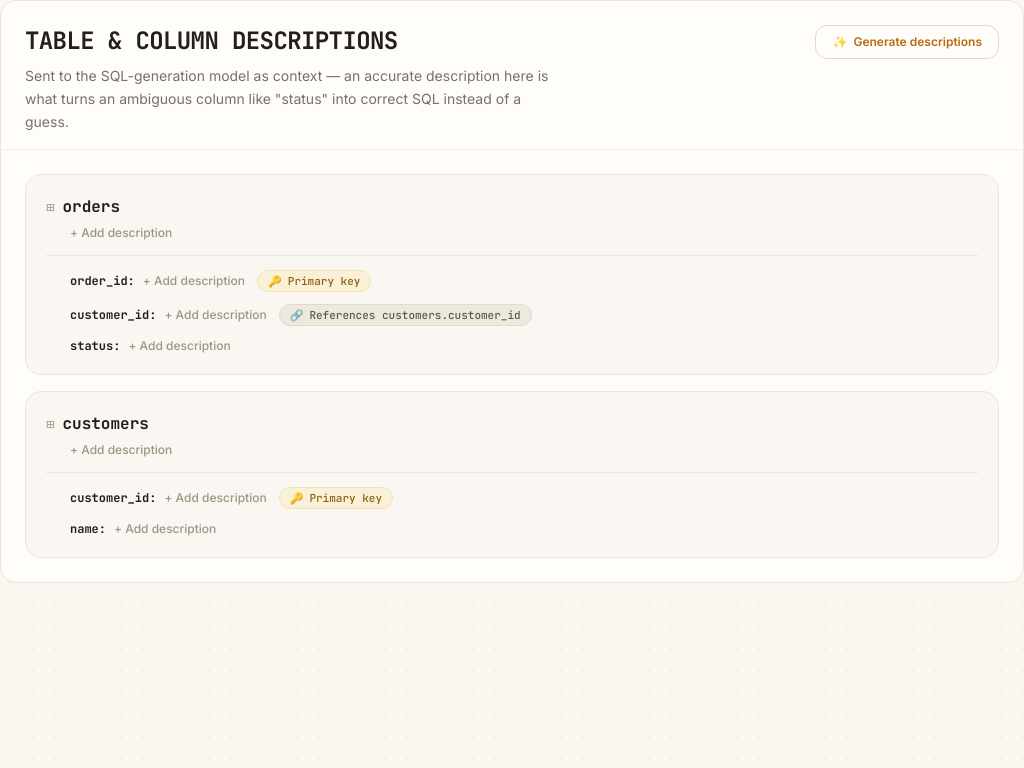
Scenario: DescribeModal — table description editing › clicking + Add description on a table reveals an editable input
The width and height of the screenshot is (1024, 768).
Click the 1st button "+ Add description" at (121, 233), box [70,225,172,241]
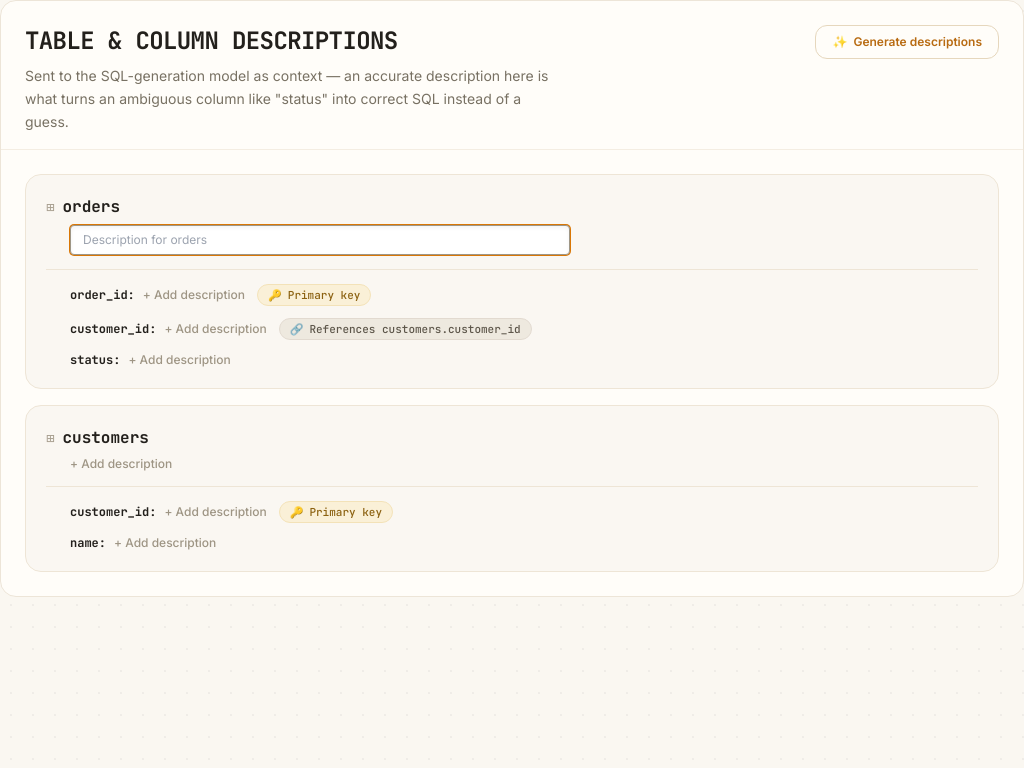
Expected: the field with placeholder "Description for orders" is shown, [70,225,570,255]
